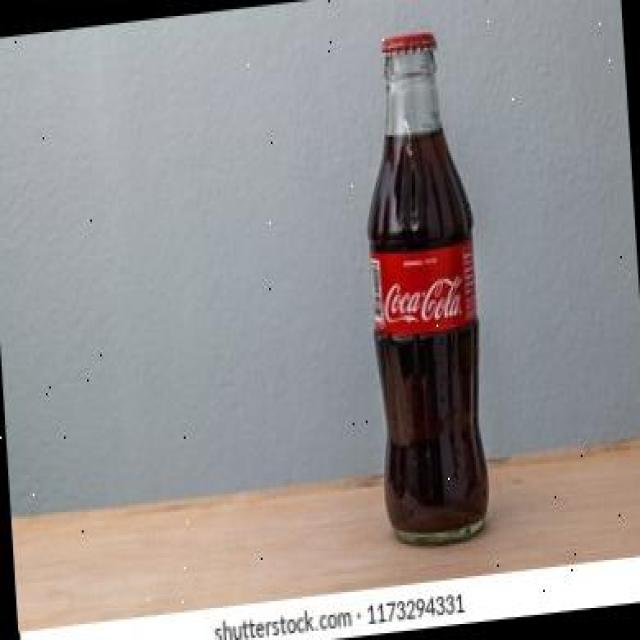coca-cola: (345, 18, 507, 565)
